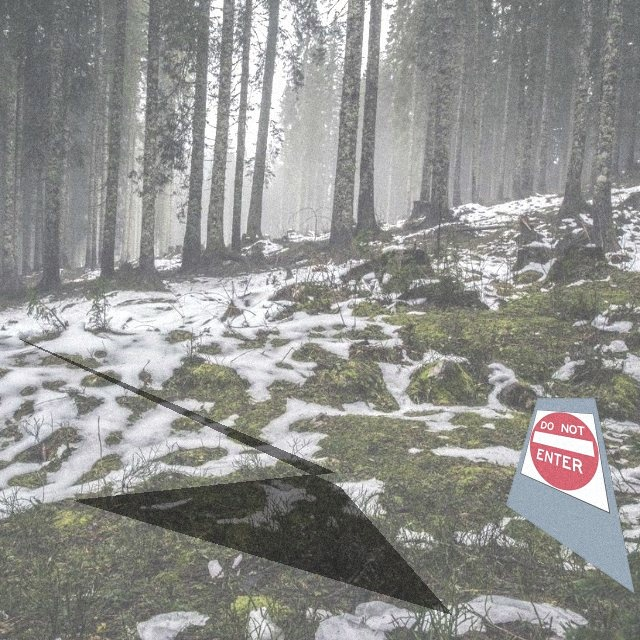DO_NOT_ENTER: (517, 409, 619, 514)
